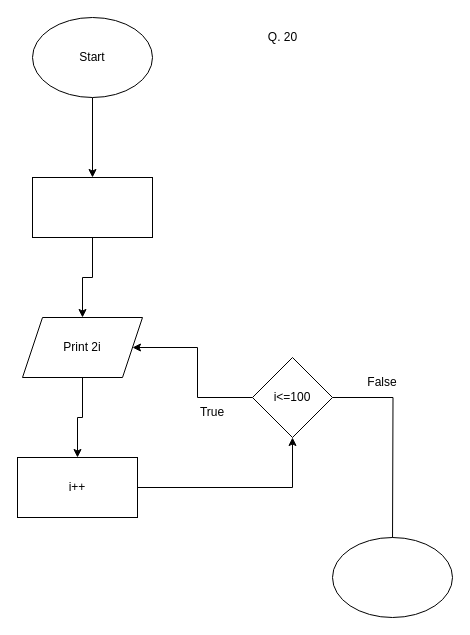
Some shapes in this 470 by 635 pixel diagram are drawn without their labels. The centre of each missing label's shape, as x and y in pixels:
"i = 1" belongs at point 92,207.
"Stop" belongs at point 392,577.
